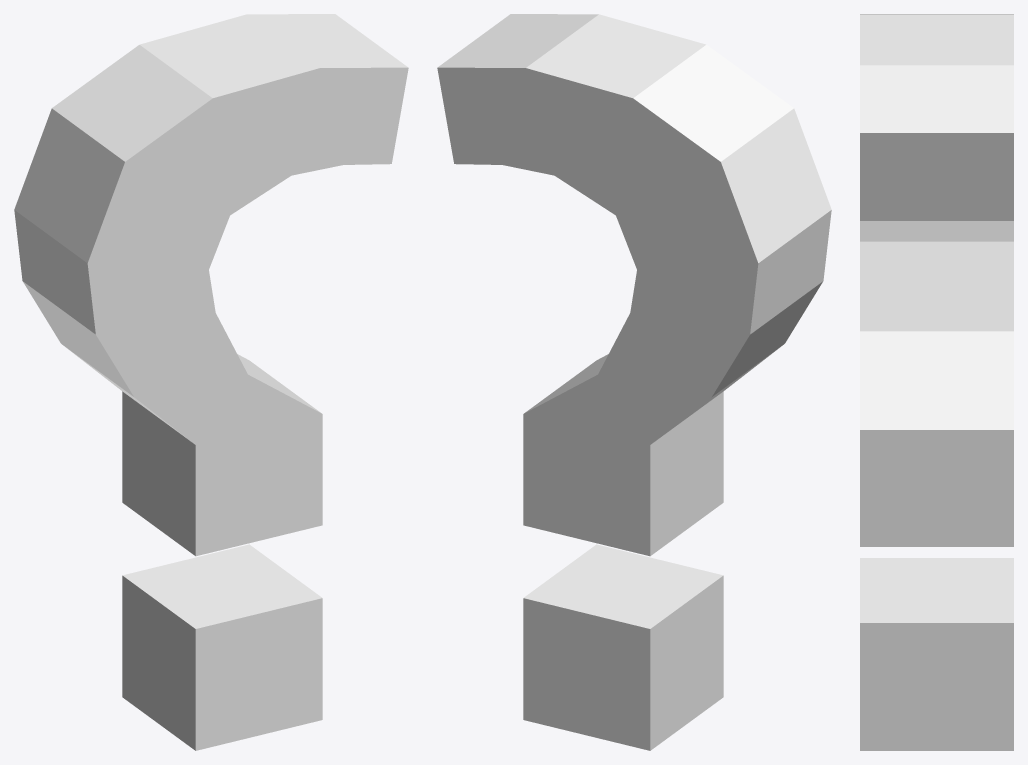
Rendered from QuestionMarkModel.fbx.
The picture shows the model from 3 angles, left to right: view 1: azimuth 30°, elevation 25°; view 2: azimuth 150°, elevation 25°; view 3: azimuth 270°, elevation 25°; orthographic projection. The views are drawn at different scales.
Visible parts, largest first — view 1: QuestionMarkModel; view 2: QuestionMarkModel; view 3: QuestionMarkModel.
Part boxes in pixels (x1,y1,x2,y2): QuestionMarkModel: [14, 14, 408, 750]; QuestionMarkModel: [437, 14, 831, 750]; QuestionMarkModel: [860, 14, 1013, 750].
Bounding box in the file's own units: 30.33 × 58.89 × 12.
